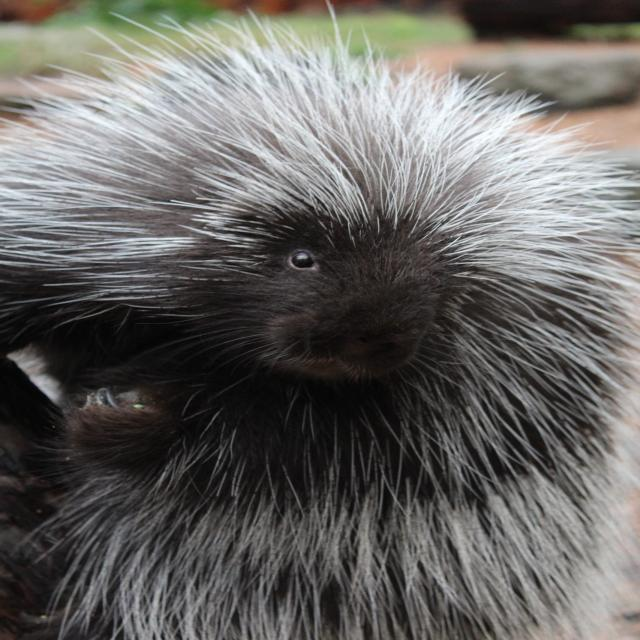Porcupine: (11, 43, 640, 640)
